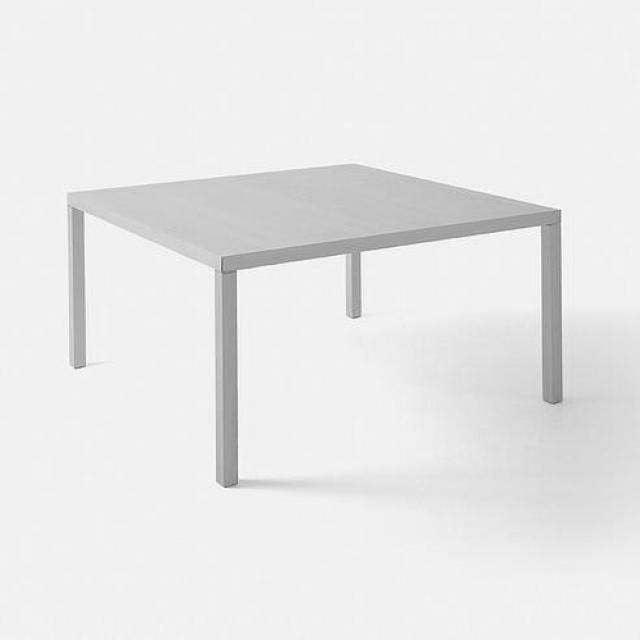table: (64, 160, 566, 490)
